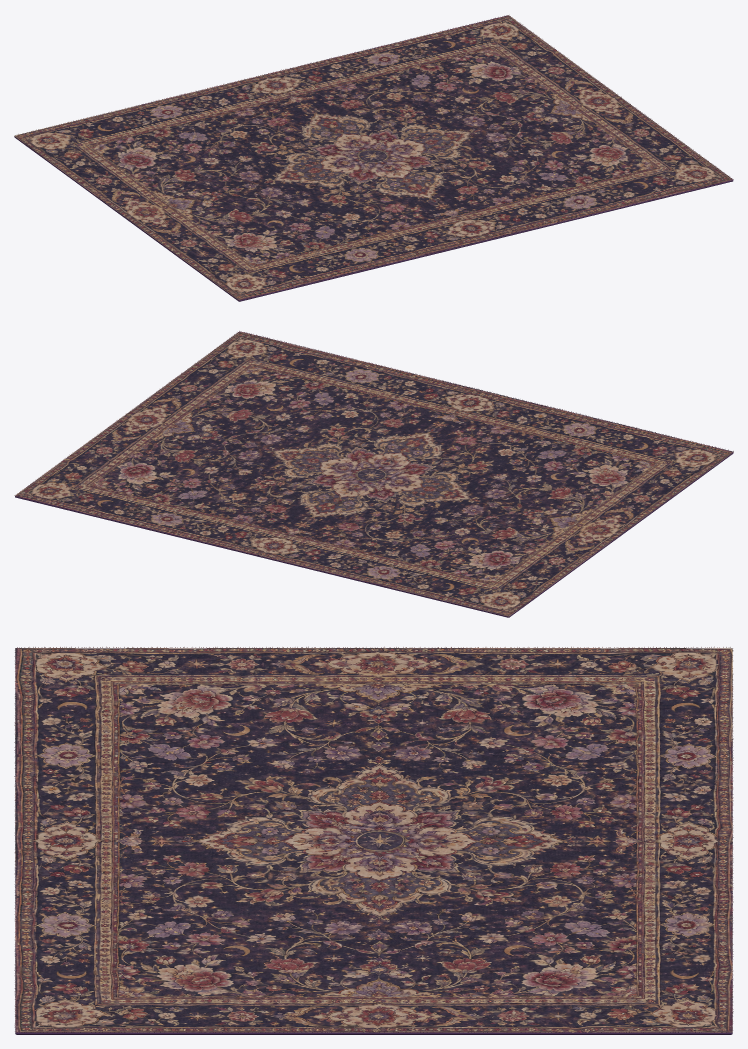
The model's file is moonroom-persian-floral-pass01-low.glb.
The picture shows the model from 3 angles, top to bottom: view 1: azimuth 30°, elevation 25°; view 2: azimuth 150°, elevation 25°; view 3: azimuth 270°, elevation 25°; orthographic projection. The views are drawn at different scales.
Visible parts, largest first — view 1: RUG_Persian_Floral_Woven_PASS01, RUG_WovenBacking_25mm; view 2: RUG_Persian_Floral_Woven_PASS01, RUG_WovenBacking_25mm; view 3: RUG_Persian_Floral_Woven_PASS01, RUG_WovenBacking_25mm.
Part boxes in pixels (x1,y1,x2,y2): RUG_Persian_Floral_Woven_PASS01: (14, 15, 733, 300); RUG_WovenBacking_25mm: (14, 136, 733, 301); RUG_Persian_Floral_Woven_PASS01: (14, 331, 733, 616); RUG_WovenBacking_25mm: (15, 452, 733, 617); RUG_Persian_Floral_Woven_PASS01: (14, 646, 733, 1032); RUG_WovenBacking_25mm: (15, 1032, 732, 1034).
Bounding box in the file's own units: 8.53 × 0.0425 × 6.73.
2 materials, 1 textured.
